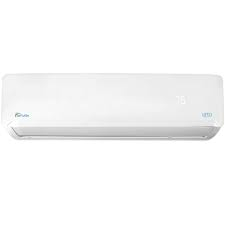ac: (2, 72, 225, 143)
